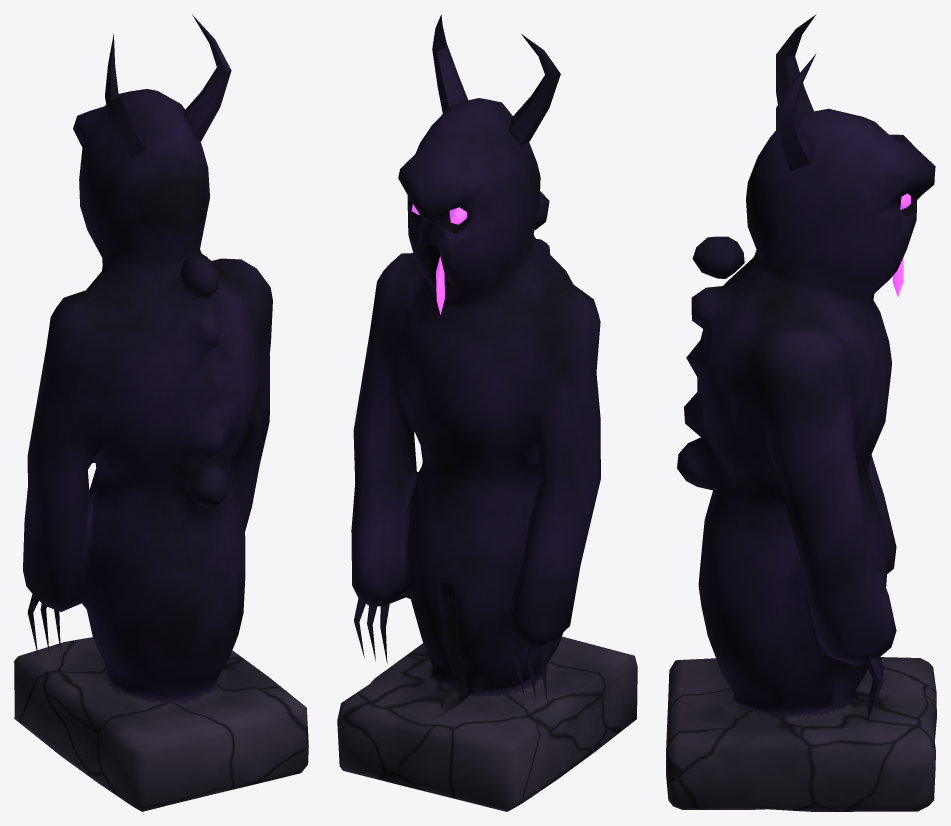
Rendered from estatua_ancestro.fbx.
The picture shows the model from 3 angles, left to right: view 1: azimuth 30°, elevation 25°; view 2: azimuth 150°, elevation 25°; view 3: azimuth 270°, elevation 25°; orthographic projection. The views are drawn at different scales.
Visible parts, largest first — view 1: estatua; view 2: estatua, ojos_neon; view 3: estatua.
Part boxes in pixels (x1,y1,x2,y2): estatua: (14,14,308,811); estatua: (337,14,637,811); ojos_neon: (411,204,467,314); estatua: (666,14,936,811).
Size of the model in its own units: 2.01 by 6 by 2.
Materials: 1 (1 with a texture image).
